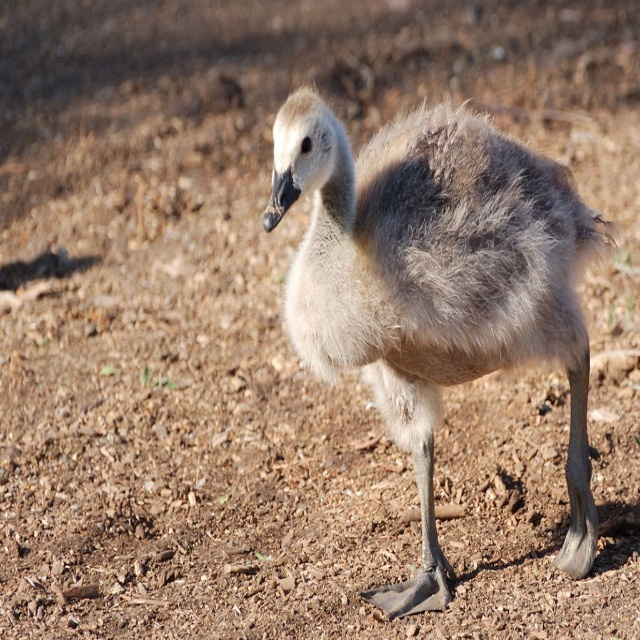Goose: (251, 71, 619, 620)
